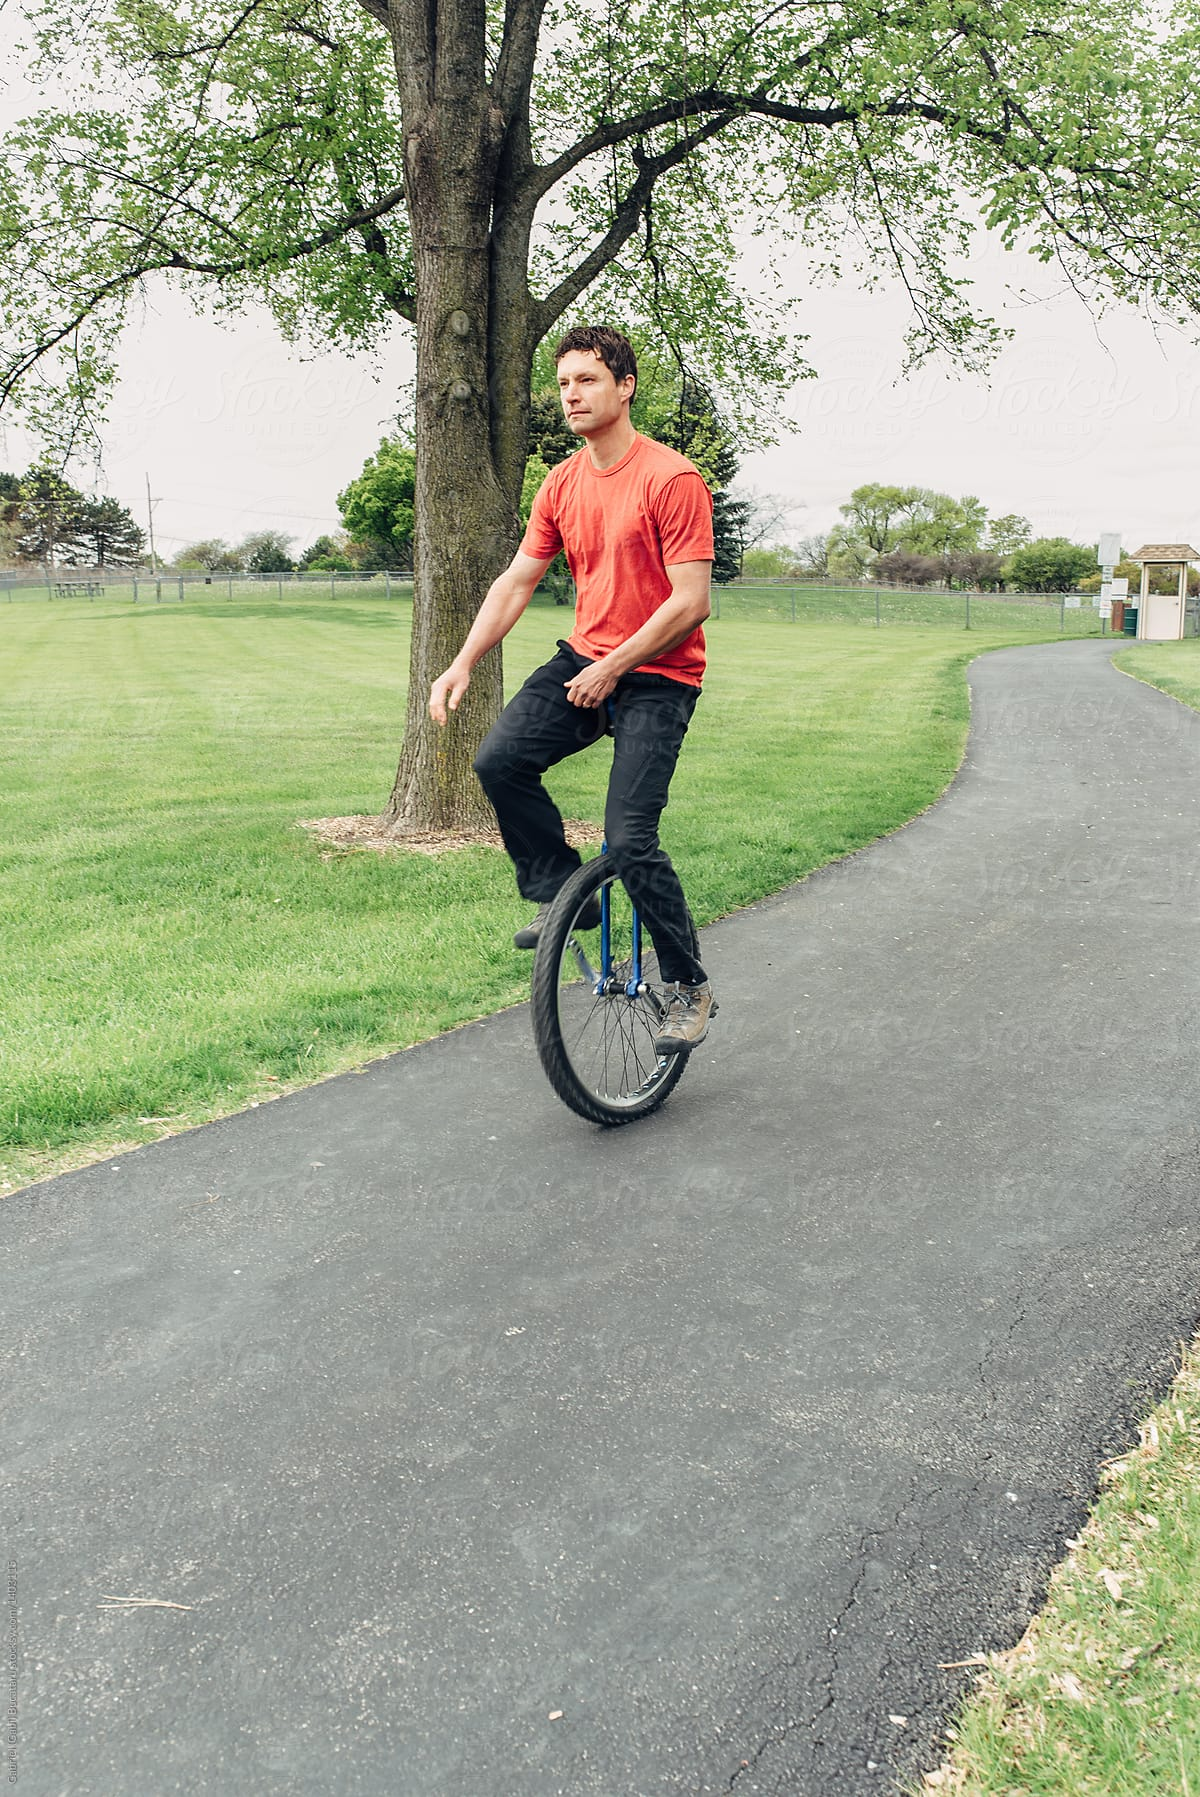wheel: (518, 829, 734, 1137)
